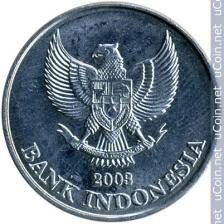coin_200_e2003: (0, 0, 211, 222)
